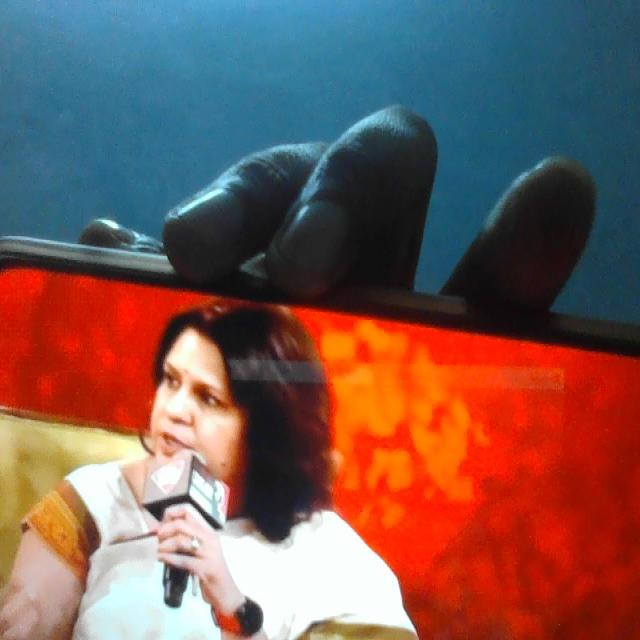fake: (143, 294, 261, 518)
